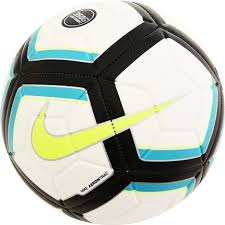top: (2, 3, 223, 224)
